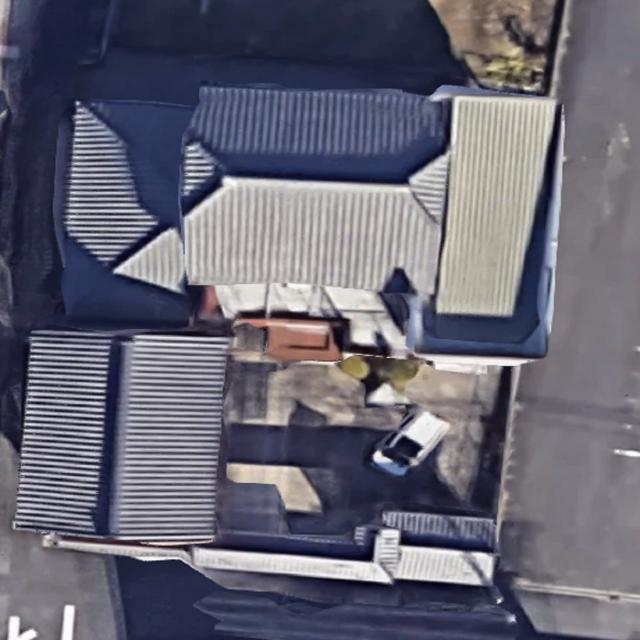Batiment: (62, 86, 556, 322), (14, 331, 229, 541)
